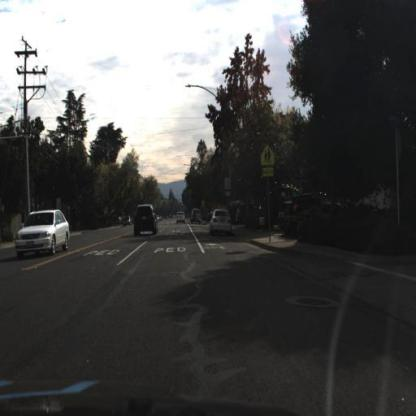car: (16, 209, 72, 258), (131, 201, 160, 241), (208, 207, 234, 236), (189, 206, 204, 227), (175, 209, 189, 229)
